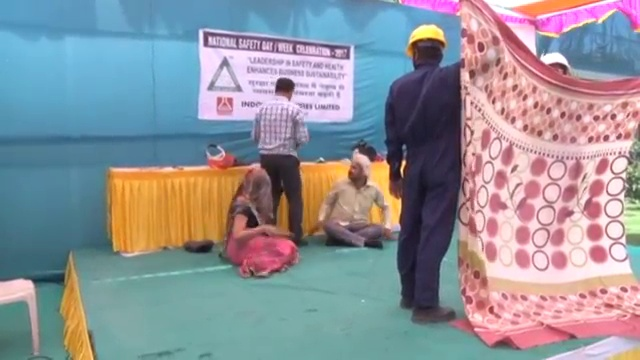helmet: (403, 23, 447, 54), (538, 49, 572, 71)
helmet_off: (242, 165, 269, 200), (347, 150, 367, 183), (274, 76, 296, 102)
helmet_on: (403, 23, 446, 70)
person: (384, 22, 464, 324), (252, 75, 309, 243), (221, 165, 295, 278), (323, 149, 390, 250)
